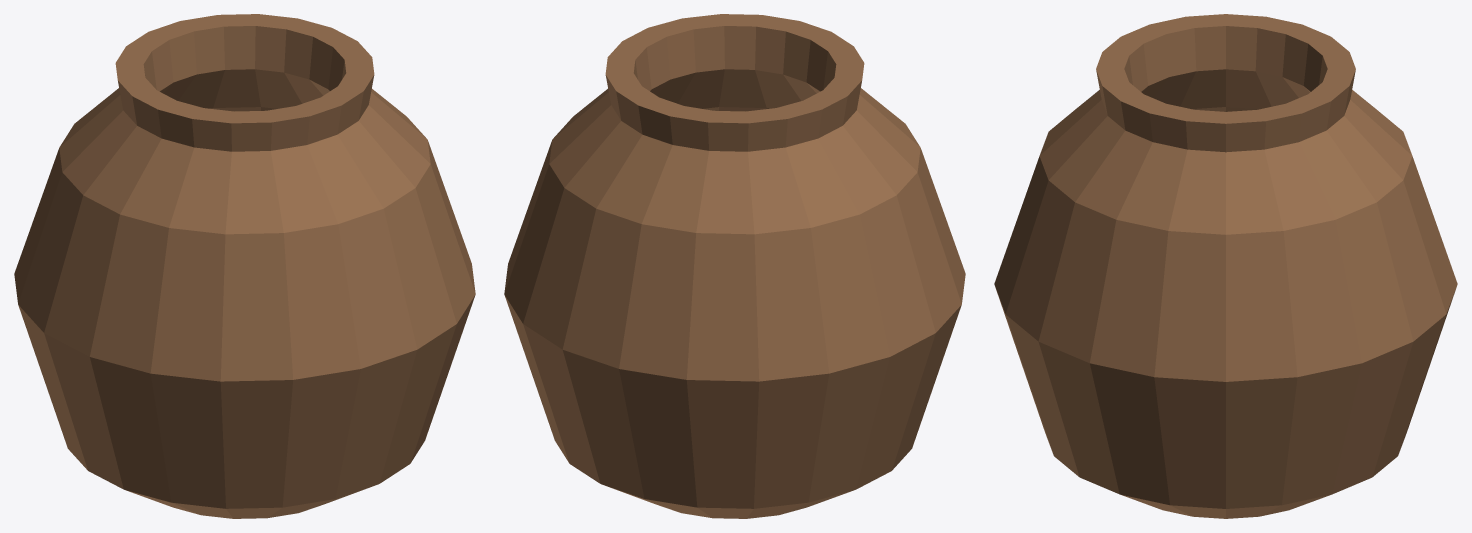
The model's file is jar-ultra.glb.
3 renders of one model, left to right at view 1: azimuth 30°, elevation 25°; view 2: azimuth 150°, elevation 25°; view 3: azimuth 270°, elevation 25°, orthographic.
Visible parts, largest first — view 1: jar; view 2: jar; view 3: jar.
Part boxes in pixels (<box>): jar: <box>14,14,475,518</box>; jar: <box>504,14,965,518</box>; jar: <box>994,14,1457,518</box>.
Size of the model in its own units: 0.82 by 0.79 by 0.82.
